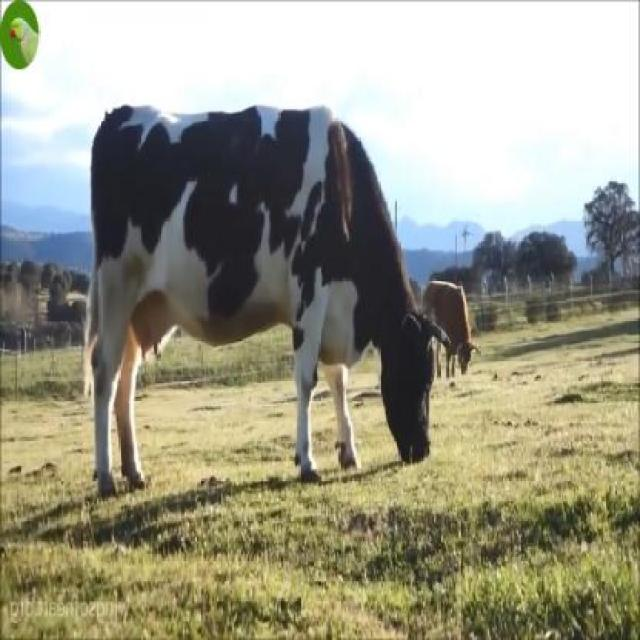Cow: (88, 104, 437, 476)
